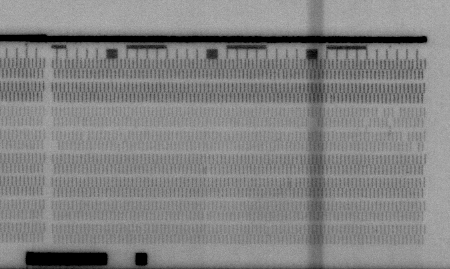Broken hole: (305, 116, 321, 129), (391, 105, 403, 121), (375, 106, 387, 120), (79, 130, 91, 142), (50, 139, 61, 152), (399, 130, 411, 141), (409, 141, 420, 153)
Oblique printing: (360, 117, 373, 132), (385, 118, 396, 134), (201, 163, 214, 175), (286, 178, 299, 189)
